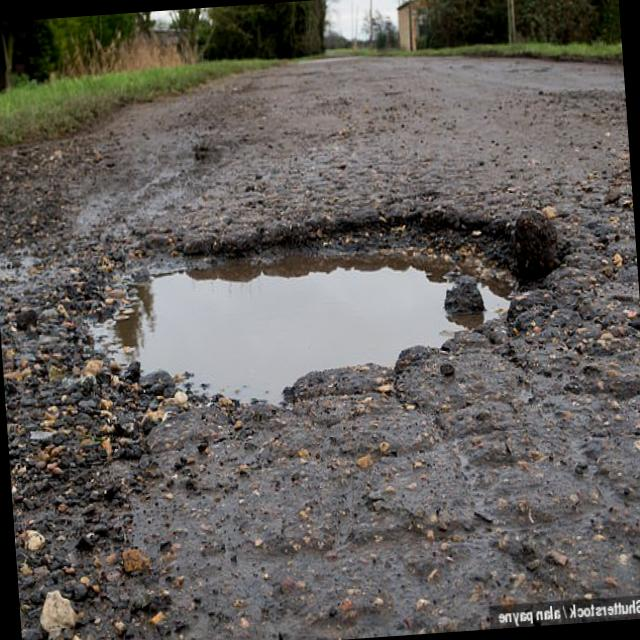bad-road: (57, 198, 572, 424)
